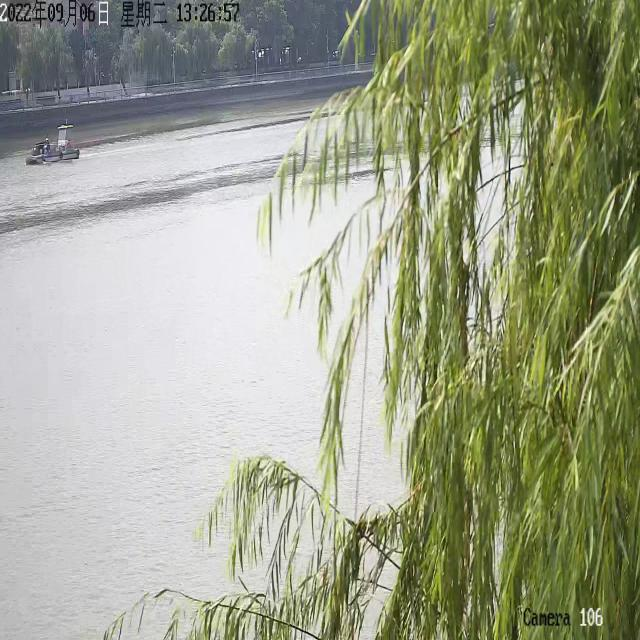ship: (25, 117, 79, 164)
